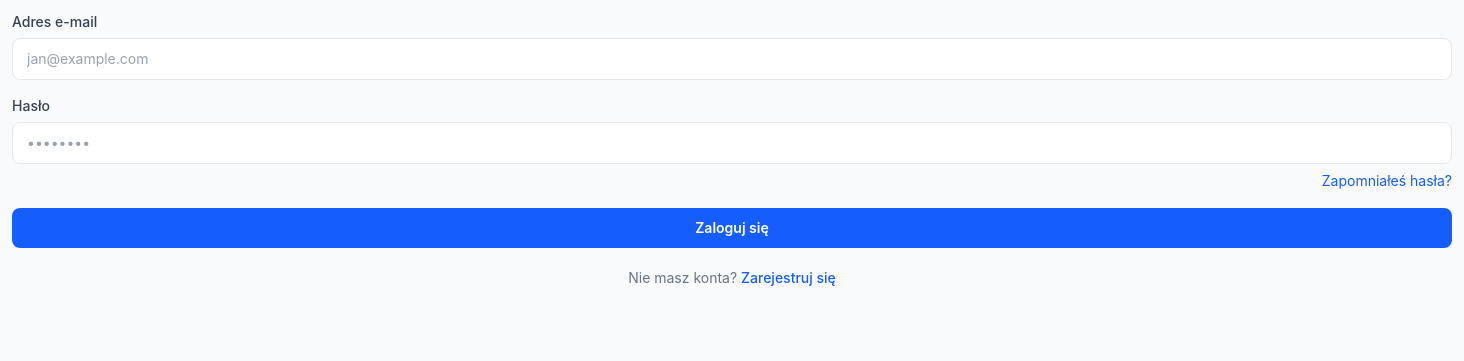
Test: LoginForm › shows generic error for non-Error rejection
Type "user@test.pl" into the field labelled "Adres e-mail" at (732, 59), box [12, 38, 1452, 80]
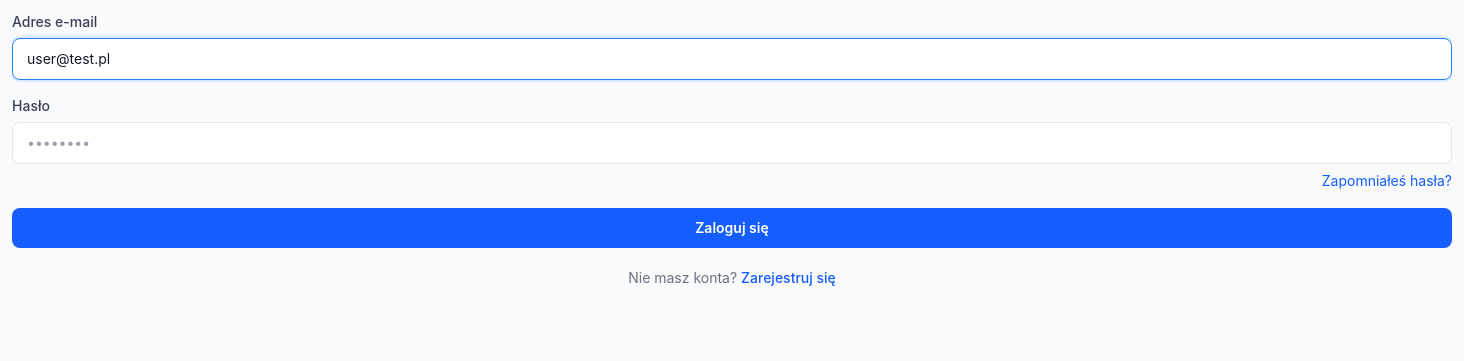
Type "haslo" into the password field labelled "Hasło" at (732, 143), box [12, 122, 1452, 164]
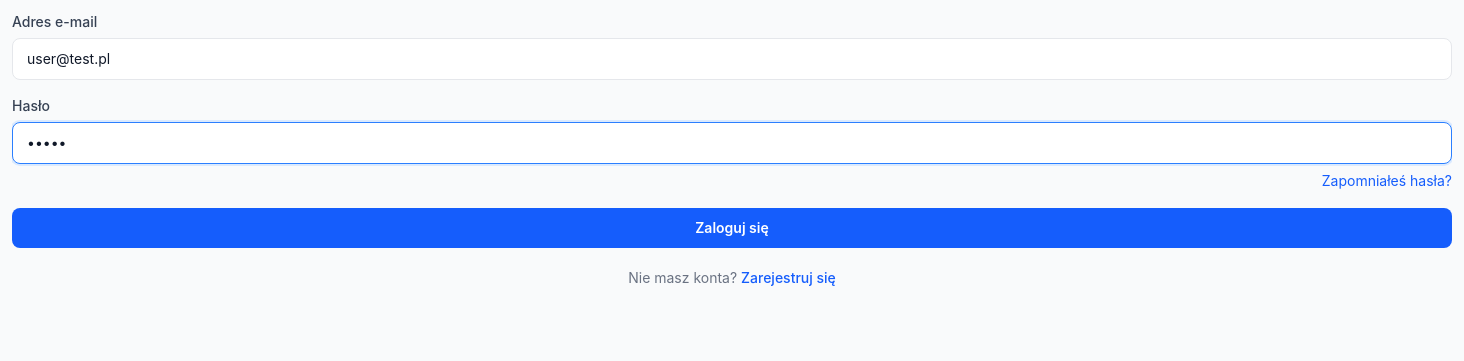
Click the button "Zaloguj się" at (732, 228), box [12, 208, 1452, 248]
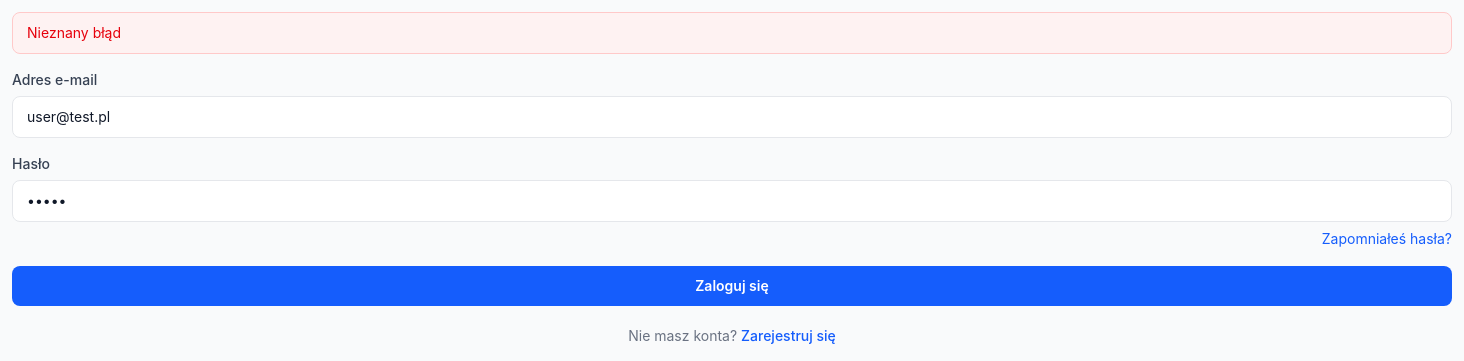
expect the text "Nieznany błąd" is shown: met, box [12, 12, 1452, 54]
